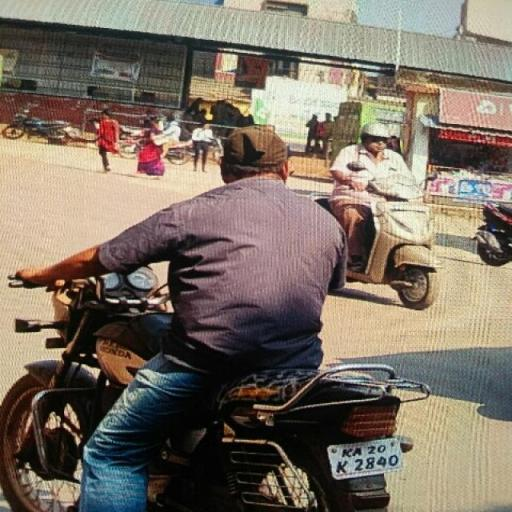bike: (2, 121, 443, 512)
numberplate: (328, 434, 404, 486)
withouthelmet: (220, 128, 288, 176)
